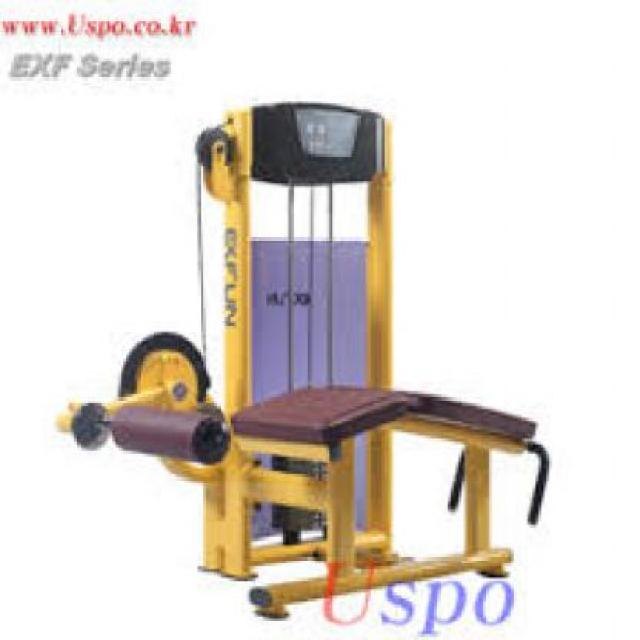reg curl machine: (43, 98, 555, 624)
